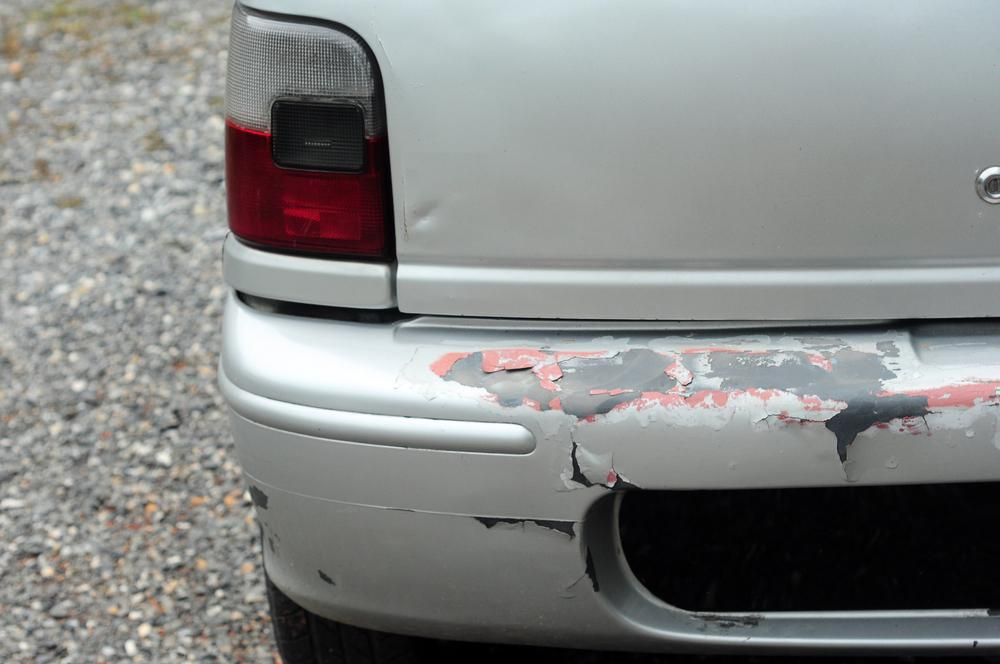dent: (411, 201, 445, 231)
scratch: (417, 335, 945, 440)
